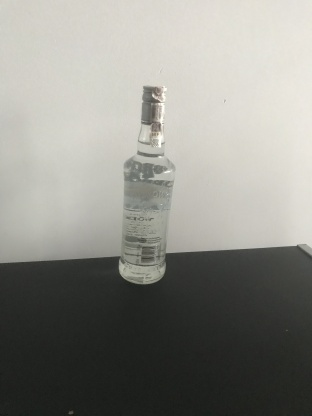nakretka: (139, 83, 168, 124)
